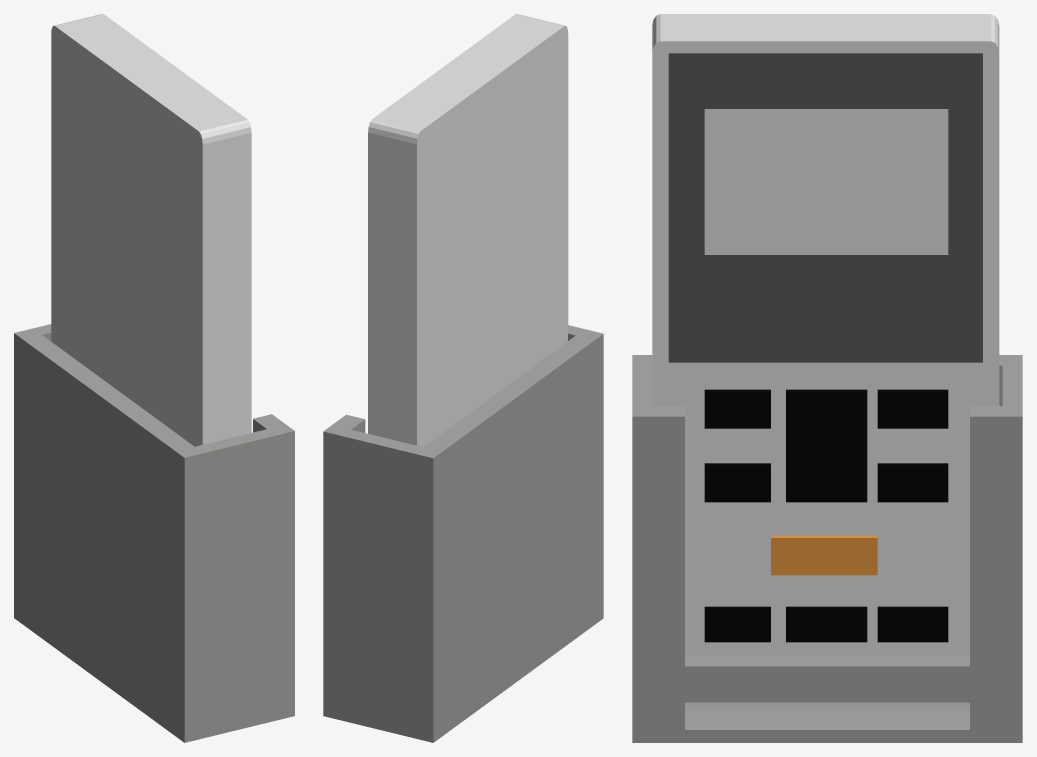
File: AIR-CONTROL.glb
3 renders of one model, left to right at view 1: azimuth 30°, elevation 25°; view 2: azimuth 150°, elevation 25°; view 3: azimuth 270°, elevation 25°, orthographic. The views are drawn at different scales.
Parts seen in each view (by area): view 1: Cube.058, Cube.052; view 2: Cube.058, Cube.052; view 3: Cube.052, Cube.058.
Part boxes in pixels (x1,y1,x2,y2): Cube.058: (14, 324, 294, 742); Cube.052: (51, 14, 251, 446); Cube.058: (323, 325, 603, 742); Cube.052: (368, 14, 568, 446); Cube.052: (652, 14, 999, 710); Cube.058: (632, 355, 1022, 742).
Bounding box in the file's own units: 4.22 × 21.77 × 11.3.
